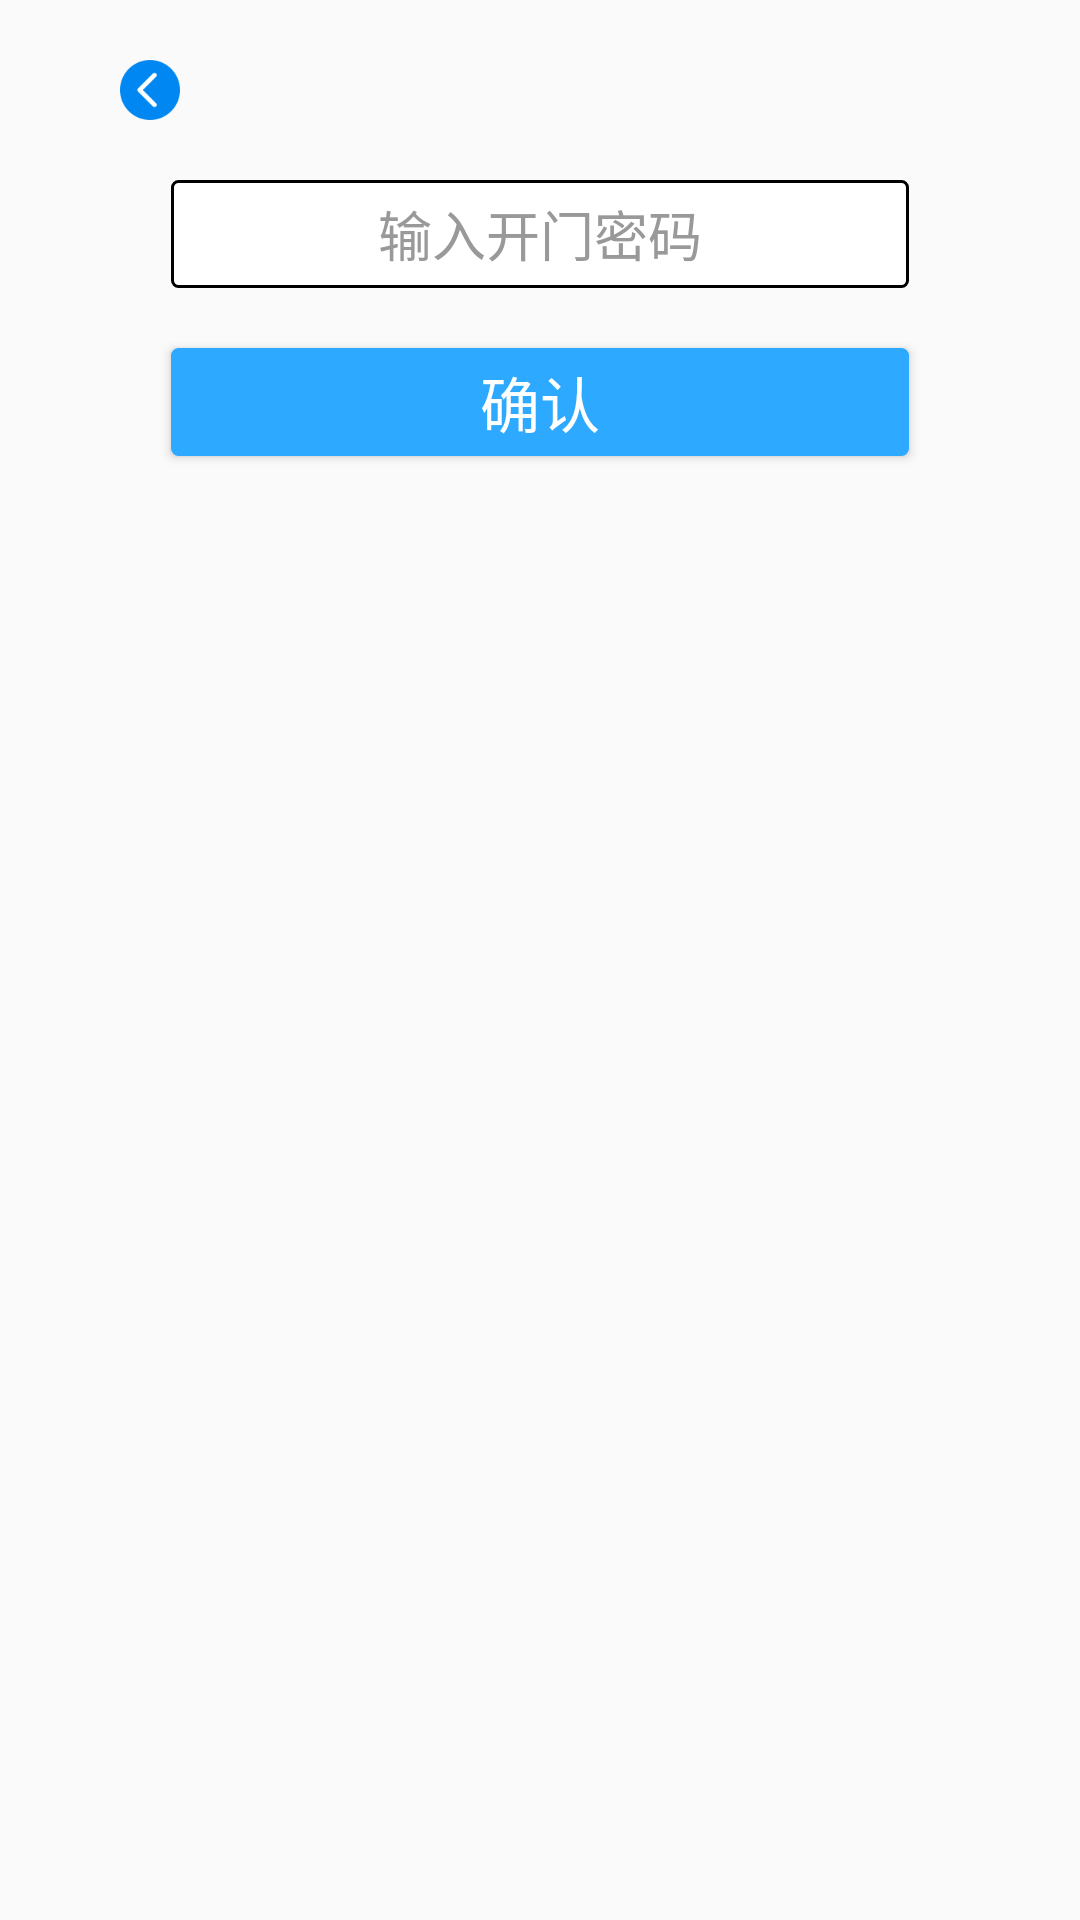

Named icons in this screenshot (1080*1920) and their centers, point (x, y):
back: point (150, 90)
